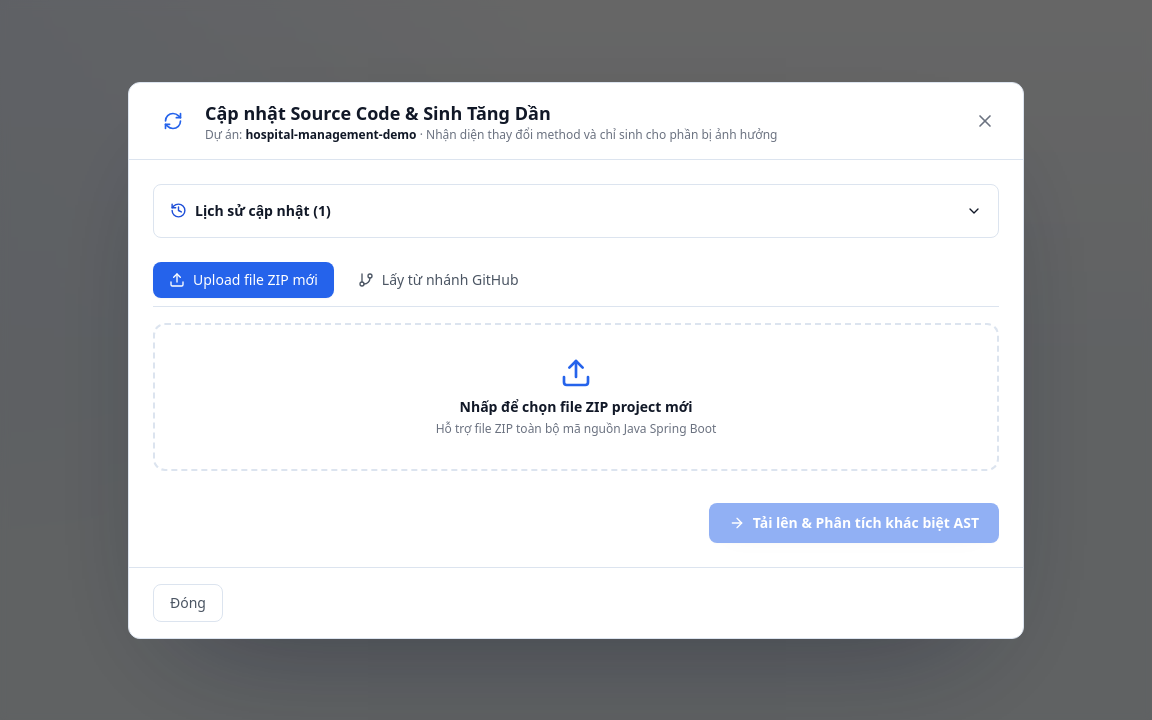
Scenario: SourceUpdateModal › does not show stale history when an older project request finishes late
Click the button "Lịch sử cập nhật (1)": (252, 210) 170,200 -> 982,220
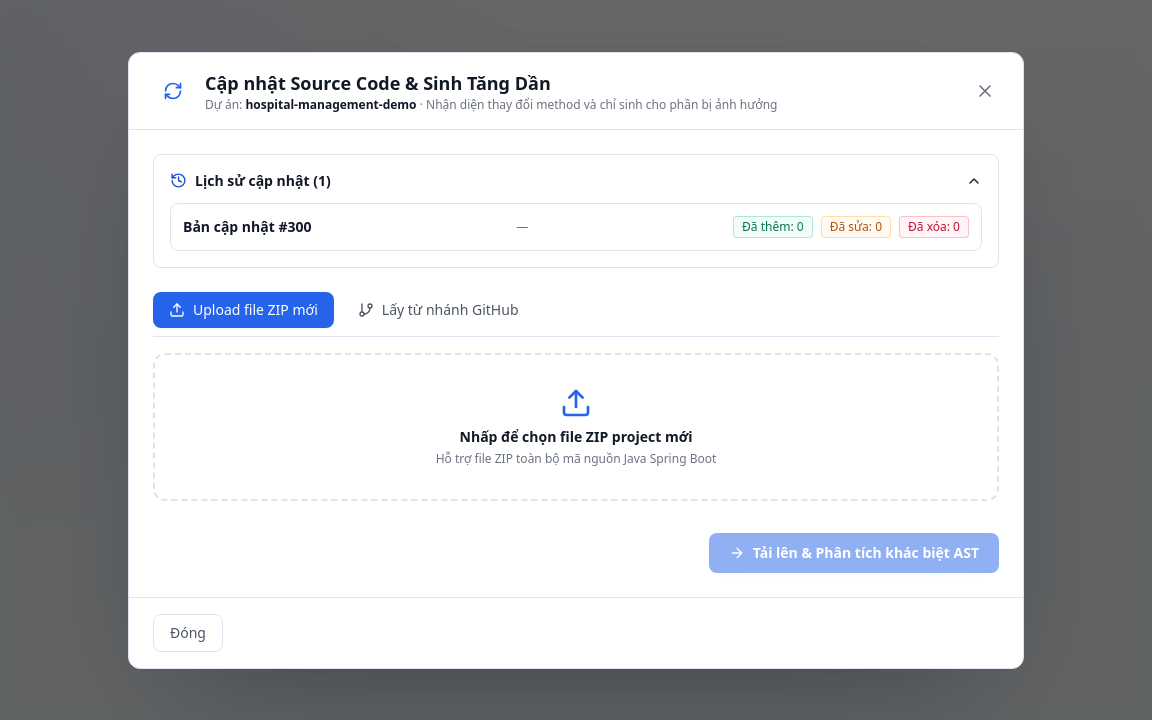
Now the button "Bản cập nhật #300 — Đã thêm: 0 Đã sửa: 0 Đã xóa: 0" is shown, box 183,216 -> 969,238
